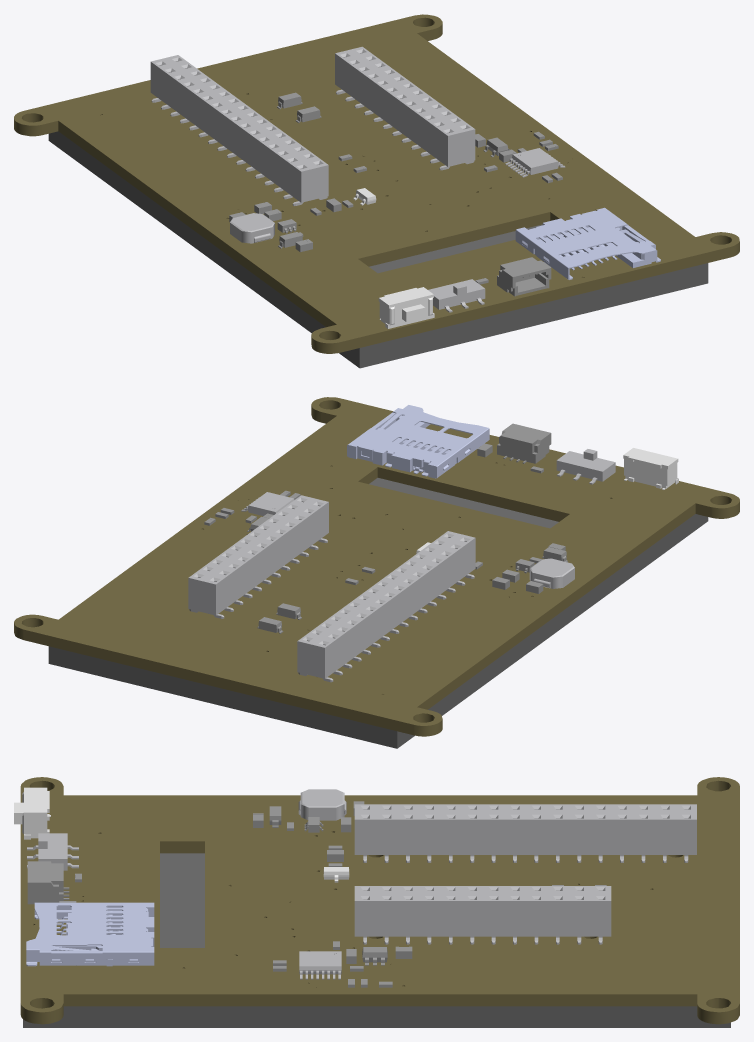
File: ada-3651.glb
The picture shows the model from 3 angles, top to bottom: view 1: azimuth 30°, elevation 25°; view 2: azimuth 150°, elevation 25°; view 3: azimuth 270°, elevation 25°; orthographic projection. The views are drawn at different scales.
Parts seen in each view (by area): view 1: 0.16666666666666666_0.16666666666666666_0.08333333333333333_, 0.5833333333333334_0.5833333333333334_0.5833333333333334_0.8, 0.16666666666666666_0.16666666666666666_0.16666666666666666_, 0.5833333333333334_0.6666666666666666_0.8333333333333334_0, 0.3333333333333333_0.3333333333333333_0.3333333333333333_0, 0.9166666666666666_0.9166666666666666_0.9166666666666666_0.8; view 2: 0.16666666666666666_0.16666666666666666_0.08333333333333333_, 0.5833333333333334_0.5833333333333334_0.5833333333333334_0.8, 0.16666666666666666_0.16666666666666666_0.16666666666666666_, 0.5833333333333334_0.6666666666666666_0.8333333333333334_0, 0.3333333333333333_0.3333333333333333_0.3333333333333333_0, 0.9166666666666666_0.9166666666666666_0.9166666666666666_0.8; view 3: 0.16666666666666666_0.16666666666666666_0.08333333333333333_, 0.5833333333333334_0.5833333333333334_0.5833333333333334_0.8, 0.16666666666666666_0.16666666666666666_0.16666666666666666_, 0.5833333333333334_0.6666666666666666_0.8333333333333334_0, 0.3333333333333333_0.3333333333333333_0.3333333333333333_0, 0.9166666666666666_0.9166666666666666_0.9166666666666666_0.8.
Part boxes in pixels (x1,y1,x2,y2): 0.16666666666666666_0.16666666666666666_0.08333333333333333_: (14,14,739,353); 0.5833333333333334_0.5833333333333334_0.5833333333333334_0.8: (150,46,565,312); 0.16666666666666666_0.16666666666666666_0.16666666666666666_: (48,131,708,368); 0.5833333333333334_0.6666666666666666_0.8333333333333334_0: (515,207,660,279); 0.3333333333333333_0.3333333333333333_0.3333333333333333_0: (229,92,562,296); 0.9166666666666666_0.9166666666666666_0.9166666666666666_0.8: (353,188,434,328); 0.16666666666666666_0.16666666666666666_0.08333333333333333_: (14,397,739,736); 0.5833333333333334_0.5833333333333334_0.5833333333333334_0.8: (188,449,615,682); 0.16666666666666666_0.16666666666666666_0.16666666666666666_: (48,478,708,748); 0.5833333333333334_0.6666666666666666_0.8333333333333334_0: (347,405,489,478); 0.3333333333333333_0.3333333333333333_0.3333333333333333_0: (204,423,567,633); 0.9166666666666666_0.9166666666666666_0.9166666666666666_0.8: (416,448,678,553); 0.16666666666666666_0.16666666666666666_0.08333333333333333_: (20,777,739,1024); 0.5833333333333334_0.5833333333333334_0.5833333333333334_0.8: (27,789,696,979); 0.16666666666666666_0.16666666666666666_0.16666666666666666_: (23,853,730,1027); 0.5833333333333334_0.6666666666666666_0.8333333333333334_0: (26,902,154,966); 0.3333333333333333_0.3333333333333333_0.3333333333333333_0: (27,801,606,987); 0.9166666666666666_0.9166666666666666_0.9166666666666666_0.8: (14,787,349,882).
Bounding box in the file's own units: 6.6 × 1.04 × 8.61.
